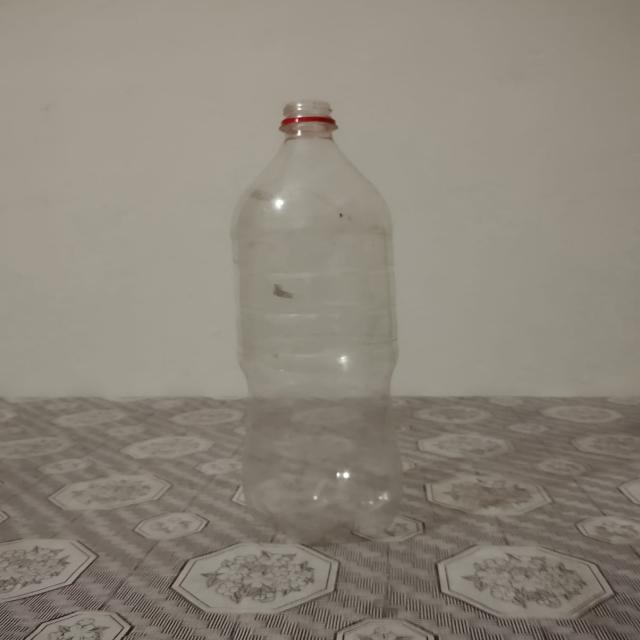bottle: (229, 96, 410, 541)
